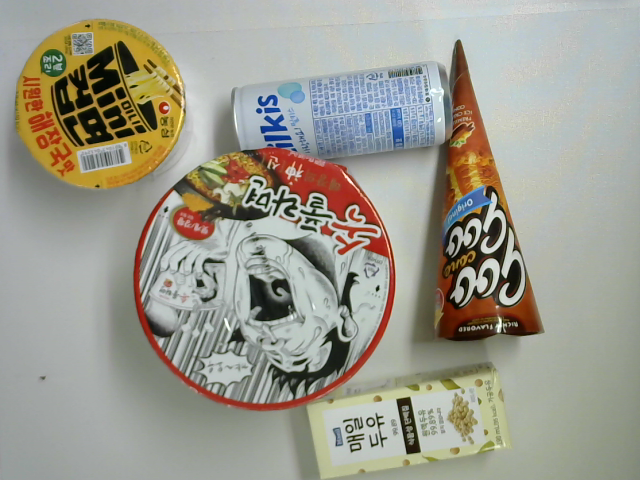99.89_Soymilk: (304, 360, 517, 480)
GooGoo_Cone_CVS: (431, 40, 547, 340)
Hejangmini: (11, 10, 189, 194)
Hejangpul: (133, 149, 400, 414)
Milkies_250ml: (229, 62, 455, 169)
